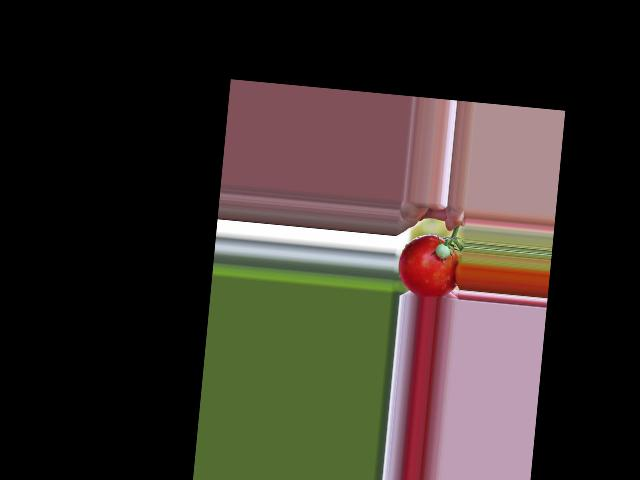tomato: (396, 231, 461, 300)
